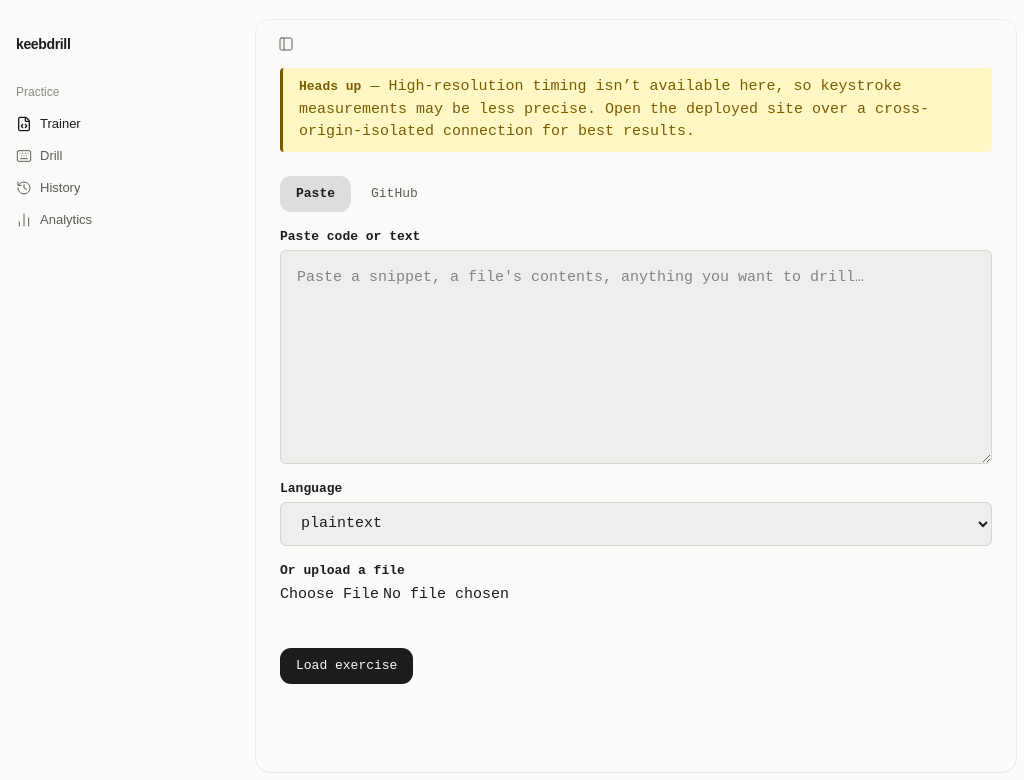
App — Trainer-only Paste | GitHub corpus shell (D-01..D-04) › reveals #github-url on the GitHub tab and hides the Paste panel
This screenshot has width=1024, height=780.
Click the tab with id "corpus-tab-github" at (394, 194), box [355,176,434,212]
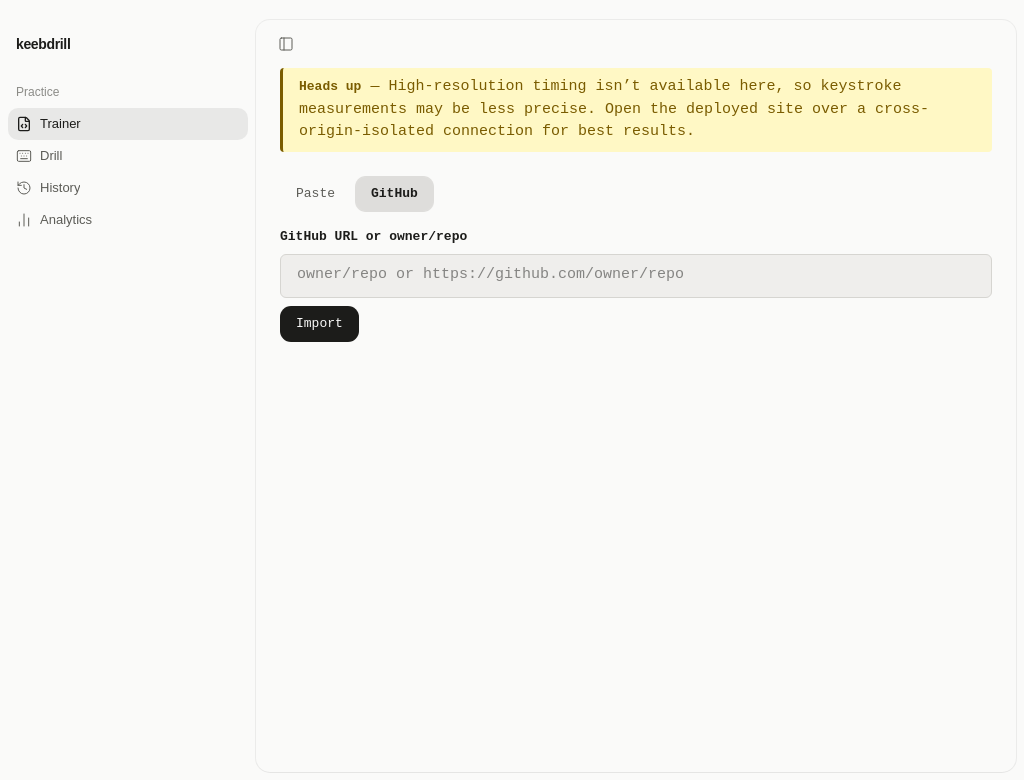
Check: the field with id "github-url" is shown, box [280,254,992,298]
